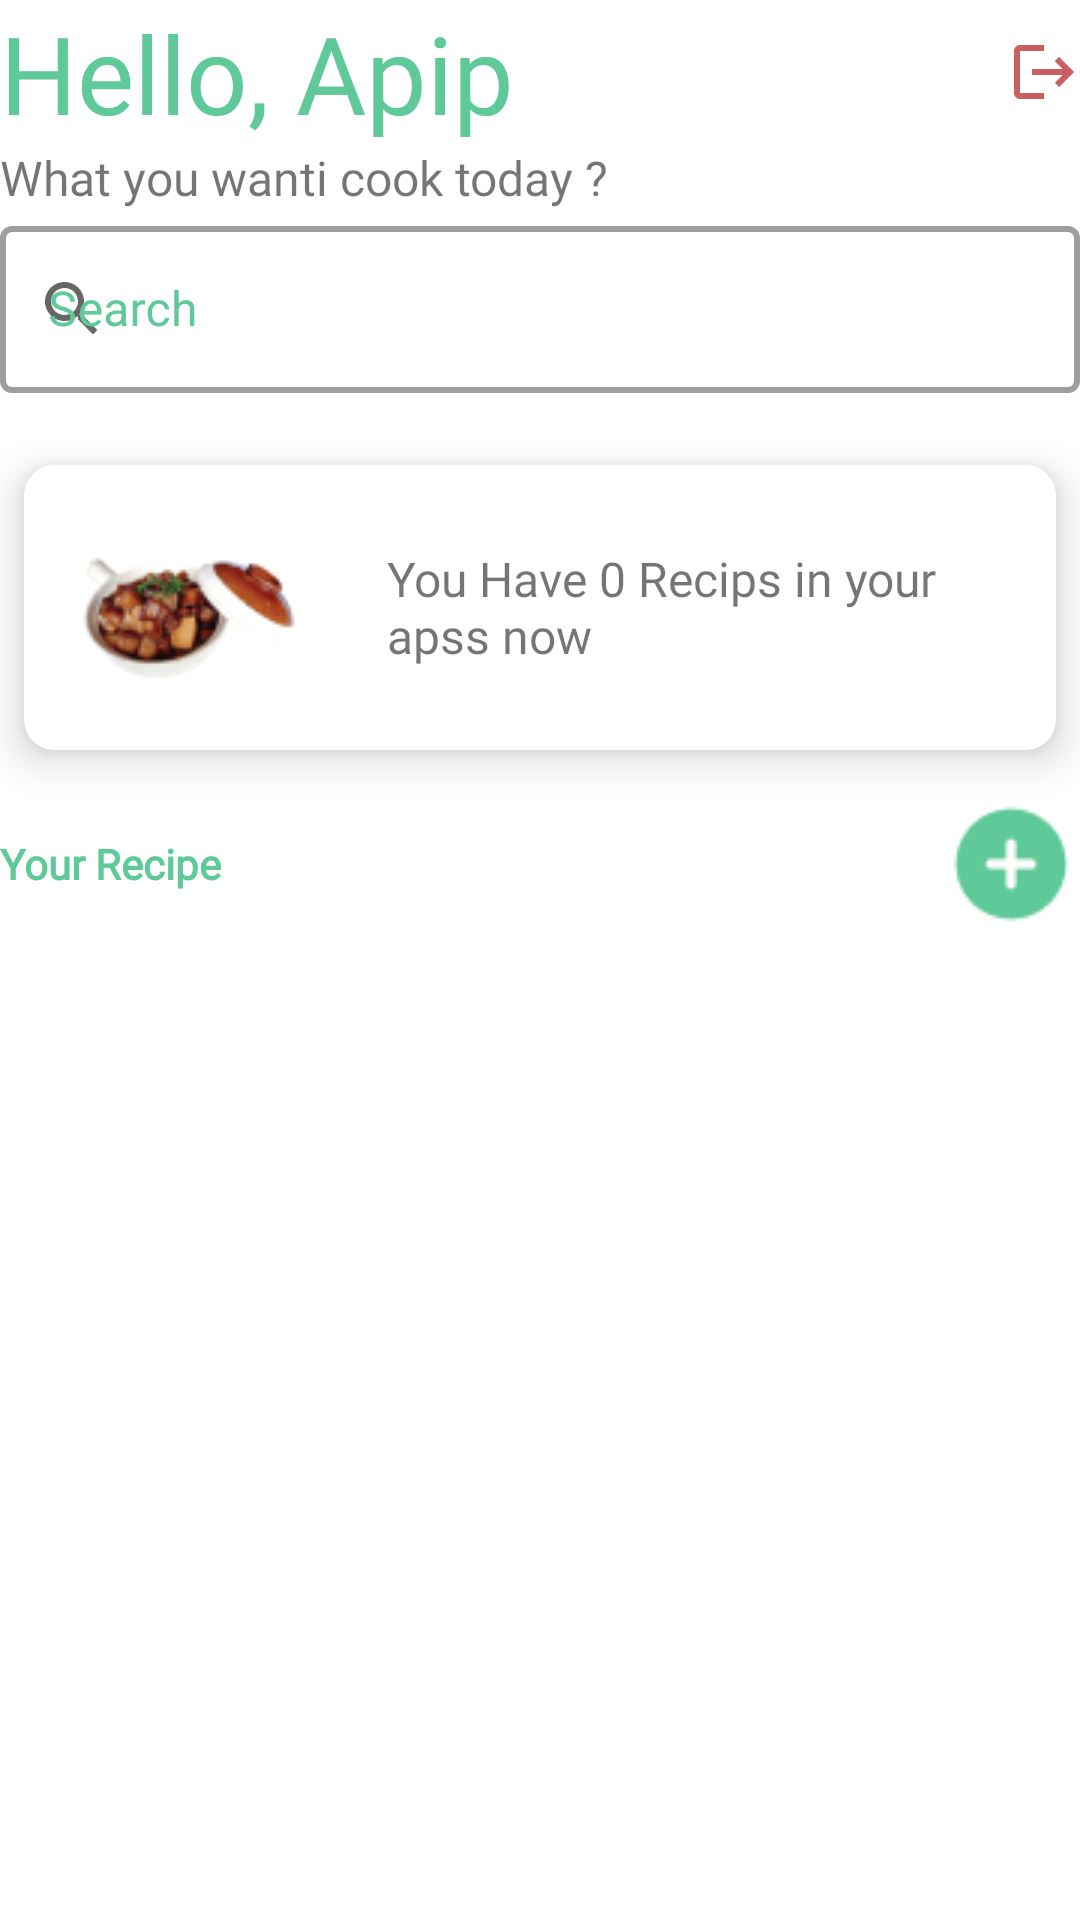

Icon click points for this 1080 × 1920 phone screenshot, format point (x, y):
foodshoot: point (189, 615)
plus: point (1011, 864)
